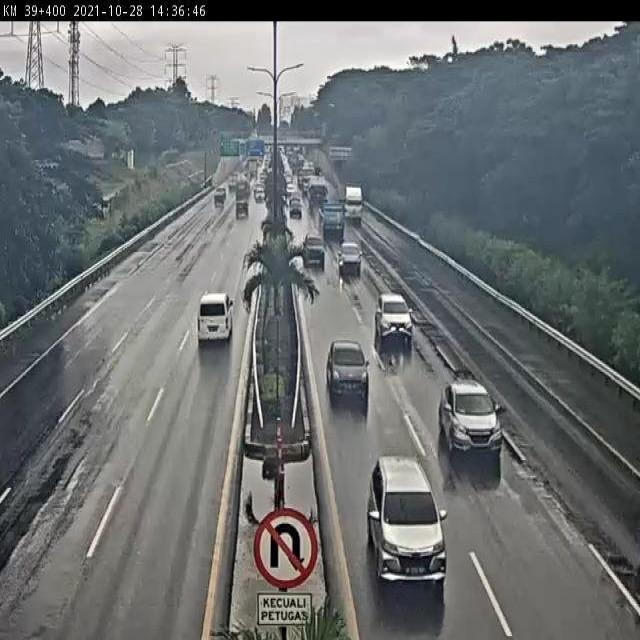big truck: (343, 190, 357, 222)
car: (574, 445, 640, 535), (379, 482, 429, 566), (193, 288, 232, 360), (446, 384, 497, 439), (323, 336, 366, 385), (373, 284, 413, 325), (338, 232, 361, 264), (301, 230, 322, 253), (229, 210, 245, 230), (214, 193, 224, 211)
